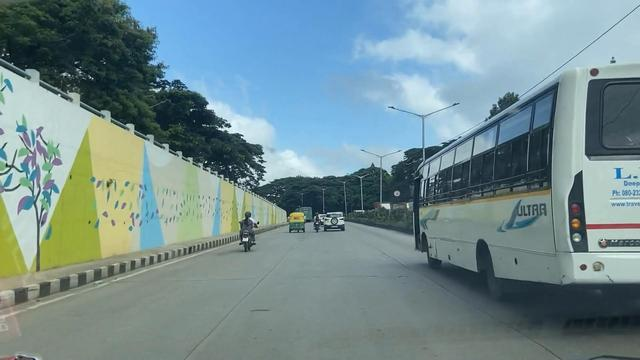HMV: (416, 71, 640, 305)
LMV: (239, 211, 260, 249)
